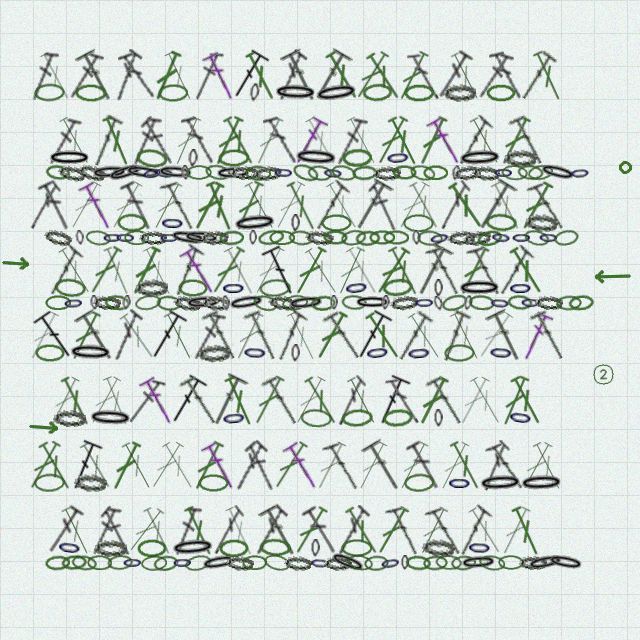chain: (313, 81, 360, 105), (328, 549, 367, 576), (232, 212, 278, 234), (106, 160, 145, 185), (293, 147, 339, 168), (170, 537, 216, 558), (457, 148, 503, 168), (88, 408, 133, 428), (478, 473, 523, 493), (519, 473, 564, 493), (538, 161, 577, 184), (273, 83, 318, 102), (68, 343, 113, 362), (227, 292, 266, 313), (200, 552, 239, 573), (526, 552, 565, 573), (546, 552, 585, 573), (47, 149, 92, 167), (457, 279, 502, 297), (169, 228, 207, 248), (135, 147, 168, 169), (124, 163, 162, 182), (287, 294, 325, 312), (197, 343, 231, 363), (54, 277, 86, 298), (291, 161, 320, 184), (382, 277, 413, 298), (259, 278, 291, 298), (300, 408, 332, 428), (341, 408, 373, 428), (77, 162, 107, 183), (43, 227, 73, 248), (91, 164, 128, 181), (157, 164, 194, 181), (183, 229, 220, 246), (185, 294, 222, 311), (460, 554, 497, 571), (443, 83, 476, 102), (525, 213, 558, 232), (135, 278, 168, 297), (74, 473, 107, 492), (422, 538, 455, 557), (382, 408, 413, 428), (440, 292, 469, 313), (485, 213, 517, 232), (259, 538, 291, 557), (57, 163, 87, 183), (462, 228, 492, 248), (504, 149, 537, 167), (53, 409, 86, 427), (94, 539, 127, 557), (215, 165, 252, 181), (34, 83, 65, 102), (362, 83, 393, 102), (34, 473, 65, 492), (263, 552, 291, 573), (342, 148, 372, 167), (117, 213, 147, 232), (389, 293, 419, 312), (404, 473, 434, 492), (343, 277, 370, 298), (364, 342, 391, 363), (507, 407, 534, 428), (56, 537, 83, 558), (184, 553, 212, 573), (75, 84, 106, 102), (218, 149, 249, 167), (321, 214, 352, 232), (403, 214, 434, 232), (444, 344, 475, 362), (198, 474, 229, 492), (341, 539, 372, 557), (354, 295, 391, 310), (453, 163, 482, 182), (158, 84, 188, 102), (404, 84, 434, 102), (486, 84, 516, 102), (330, 163, 357, 183), (409, 163, 436, 183), (476, 228, 503, 248), (523, 228, 550, 248), (178, 279, 208, 297), (252, 293, 279, 313), (35, 344, 65, 362), (137, 539, 167, 557), (219, 539, 249, 557), (204, 163, 232, 182), (257, 228, 285, 247), (134, 293, 162, 312), (281, 293, 309, 312), (346, 553, 374, 572), (253, 164, 282, 182), (173, 294, 202, 312), (406, 343, 432, 363), (221, 408, 247, 428), (527, 163, 554, 182), (340, 228, 367, 247), (553, 228, 580, 247), (478, 554, 506, 572), (385, 148, 411, 167), (242, 343, 268, 362), (488, 343, 514, 362), (200, 229, 229, 246), (305, 229, 334, 246), (447, 229, 476, 246), (268, 294, 297, 311), (467, 538, 492, 557), (307, 164, 333, 182), (85, 229, 111, 247), (71, 554, 97, 572), (153, 554, 179, 572), (501, 164, 528, 181), (517, 164, 544, 181), (468, 294, 495, 311), (435, 554, 462, 571), (160, 214, 185, 232), (221, 279, 246, 297), (508, 279, 533, 297), (447, 474, 472, 492), (373, 165, 401, 181), (472, 165, 500, 181), (202, 295, 230, 311), (226, 555, 254, 571), (284, 555, 312, 571), (324, 555, 352, 571), (45, 164, 71, 181), (104, 294, 130, 311), (341, 294, 367, 311), (507, 294, 533, 311), (568, 294, 594, 311), (61, 554, 87, 571), (107, 554, 133, 571), (230, 165, 258, 180), (139, 230, 167, 245), (93, 295, 121, 310), (535, 295, 563, 310), (519, 555, 547, 570), (245, 165, 271, 181), (288, 230, 314, 246), (355, 230, 381, 246), (417, 230, 443, 246), (156, 295, 182, 311), (310, 295, 336, 311), (556, 295, 582, 311), (141, 555, 167, 571), (405, 555, 431, 571), (141, 164, 164, 182), (153, 164, 176, 182), (428, 229, 451, 247), (379, 554, 402, 572), (352, 165, 377, 181), (219, 230, 244, 246), (45, 555, 70, 571), (364, 555, 389, 571), (423, 555, 448, 571), (451, 555, 476, 571), (186, 165, 212, 180), (269, 230, 295, 245), (369, 230, 395, 245), (383, 230, 409, 245), (45, 295, 71, 310), (498, 555, 524, 570), (392, 165, 417, 180), (423, 165, 448, 180), (124, 230, 149, 245), (323, 230, 348, 245), (87, 555, 112, 570), (242, 555, 267, 570), (490, 229, 512, 246), (322, 165, 344, 181), (569, 165, 591, 181), (489, 295, 511, 311), (309, 555, 331, 571), (63, 295, 84, 311), (273, 165, 294, 180), (493, 165, 514, 180), (102, 230, 123, 245), (115, 230, 136, 245), (159, 230, 180, 245), (511, 230, 532, 245), (538, 230, 559, 245), (414, 295, 435, 310), (520, 295, 541, 310), (122, 555, 143, 570), (172, 555, 193, 570), (249, 83, 260, 102), (188, 149, 198, 167), (433, 295, 444, 311), (291, 214, 300, 232), (434, 279, 443, 297), (291, 344, 300, 362), (434, 409, 443, 427), (311, 539, 320, 557), (451, 165, 461, 181), (221, 295, 231, 311), (463, 295, 473, 311), (75, 230, 85, 245), (181, 165, 190, 180), (412, 230, 421, 245), (90, 295, 99, 310), (122, 295, 131, 310), (381, 295, 390, 310), (249, 230, 257, 245), (330, 295, 338, 310), (401, 555, 409, 570)
double: (32, 308, 79, 363), (472, 178, 518, 234), (74, 308, 120, 364), (361, 438, 407, 494), (308, 48, 353, 104), (349, 178, 394, 234), (144, 308, 189, 364), (258, 503, 303, 559), (226, 48, 271, 103), (164, 373, 209, 428), (75, 48, 119, 104), (350, 308, 394, 364), (280, 48, 323, 104), (411, 243, 454, 299), (485, 308, 528, 364), (206, 373, 249, 429), (260, 243, 302, 299), (514, 49, 558, 102), (444, 179, 488, 232), (473, 309, 517, 362), (452, 114, 495, 168), (309, 179, 352, 233), (526, 179, 569, 233), (493, 244, 536, 298), (321, 309, 364, 363), (391, 309, 434, 363), (485, 439, 528, 493), (123, 505, 168, 556), (116, 310, 160, 362), (362, 309, 405, 362), (43, 244, 85, 298), (178, 374, 220, 428), (424, 374, 466, 428), (424, 504, 466, 558), (372, 373, 412, 429), (269, 439, 311, 492), (43, 504, 85, 557), (289, 504, 331, 557), (301, 114, 342, 168), (260, 374, 301, 428), (35, 439, 76, 493), (322, 439, 363, 493), (453, 504, 494, 558), (507, 113, 547, 168), (159, 178, 199, 233), (200, 308, 240, 363), (528, 308, 568, 363), (363, 50, 405, 102), (301, 245, 343, 297), (371, 245, 413, 297), (404, 310, 446, 362), (65, 438, 104, 494), (322, 49, 363, 102), (351, 49, 392, 102), (433, 49, 474, 102), (322, 179, 363, 232), (55, 244, 96, 297), (178, 244, 219, 297), (207, 244, 248, 297), (342, 244, 383, 297), (506, 244, 547, 297), (301, 374, 342, 427), (76, 439, 117, 492), (146, 439, 187, 492), (158, 439, 199, 492), (281, 439, 322, 492), (301, 504, 342, 557), (342, 504, 383, 557), (465, 504, 506, 557), (36, 49, 76, 103), (188, 179, 228, 233), (516, 179, 556, 233), (220, 244, 260, 298), (290, 244, 330, 298), (454, 374, 494, 428), (516, 439, 556, 493), (425, 243, 464, 298), (466, 243, 505, 298), (425, 114, 465, 167), (65, 179, 105, 232), (106, 179, 146, 232), (393, 179, 433, 232), (85, 244, 125, 297), (311, 309, 351, 362), (85, 374, 125, 427), (466, 374, 506, 427), (24, 439, 64, 492), (405, 439, 445, 492), (372, 504, 412, 557), (393, 49, 432, 103), (384, 114, 423, 168), (487, 179, 526, 233), (24, 309, 63, 363), (159, 309, 198, 363), (446, 309, 485, 363), (188, 439, 227, 493), (311, 439, 350, 493), (86, 113, 124, 168), (168, 243, 206, 298), (242, 308, 280, 363), (271, 308, 309, 363), (385, 503, 423, 558), (229, 440, 269, 492), (56, 114, 95, 167), (220, 114, 259, 167), (290, 114, 329, 167), (343, 114, 382, 167), (372, 114, 411, 167), (466, 114, 505, 167), (77, 179, 116, 232), (241, 179, 280, 232), (270, 179, 309, 232), (405, 179, 444, 232), (249, 244, 288, 297), (138, 374, 177, 427), (249, 374, 288, 427), (290, 374, 329, 427), (343, 374, 382, 427), (507, 374, 546, 427), (118, 439, 157, 492), (200, 439, 239, 492), (446, 439, 485, 492), (160, 49, 198, 103), (201, 49, 239, 103), (242, 49, 280, 103), (447, 49, 485, 103), (529, 49, 567, 103), (209, 114, 247, 168), (496, 114, 534, 168), (37, 179, 75, 233), (119, 179, 157, 233), (148, 179, 186, 233), (283, 179, 321, 233), (139, 244, 177, 298), (385, 244, 423, 298), (455, 244, 493, 298), (66, 309, 104, 363), (283, 309, 321, 363), (45, 374, 83, 428), (57, 374, 95, 428), (414, 374, 452, 428), (353, 439, 391, 493), (394, 439, 432, 493), (435, 439, 473, 493), (529, 439, 567, 493), (57, 504, 95, 558), (139, 504, 177, 558), (180, 504, 218, 558), (221, 504, 259, 558), (414, 504, 452, 558), (496, 504, 534, 558), (125, 376, 166, 426), (249, 505, 289, 556), (331, 505, 371, 556), (435, 308, 472, 363), (118, 50, 157, 102), (168, 114, 205, 168), (250, 114, 287, 168), (414, 114, 451, 168), (230, 179, 267, 233), (127, 244, 164, 298), (332, 244, 369, 298), (230, 309, 267, 363), (221, 374, 258, 428), (107, 439, 144, 493), (508, 504, 545, 558), (475, 50, 514, 101), (107, 309, 144, 362), (149, 49, 185, 103), (202, 179, 238, 233), (99, 244, 135, 298), (518, 309, 554, 363), (66, 50, 104, 101), (139, 115, 177, 166), (25, 180, 63, 231), (45, 115, 82, 167), (98, 505, 135, 557), (272, 49, 308, 102), (263, 114, 299, 167), (99, 114, 134, 168), (99, 374, 134, 428), (497, 374, 532, 428), (385, 375, 422, 426), (209, 505, 246, 556), (190, 310, 226, 362), (489, 49, 524, 102), (181, 114, 216, 167), (436, 180, 472, 231), (407, 50, 442, 102), (333, 115, 368, 167), (366, 180, 401, 232), (333, 375, 368, 427), (243, 440, 278, 492), (109, 49, 143, 102), (88, 504, 122, 557), (191, 49, 224, 102), (129, 114, 162, 167), (479, 440, 511, 492), (28, 49, 59, 102), (171, 504, 202, 557)
noise: (592, 269, 631, 284), (591, 362, 615, 386), (28, 420, 60, 434), (1, 256, 31, 270), (618, 160, 633, 175)
